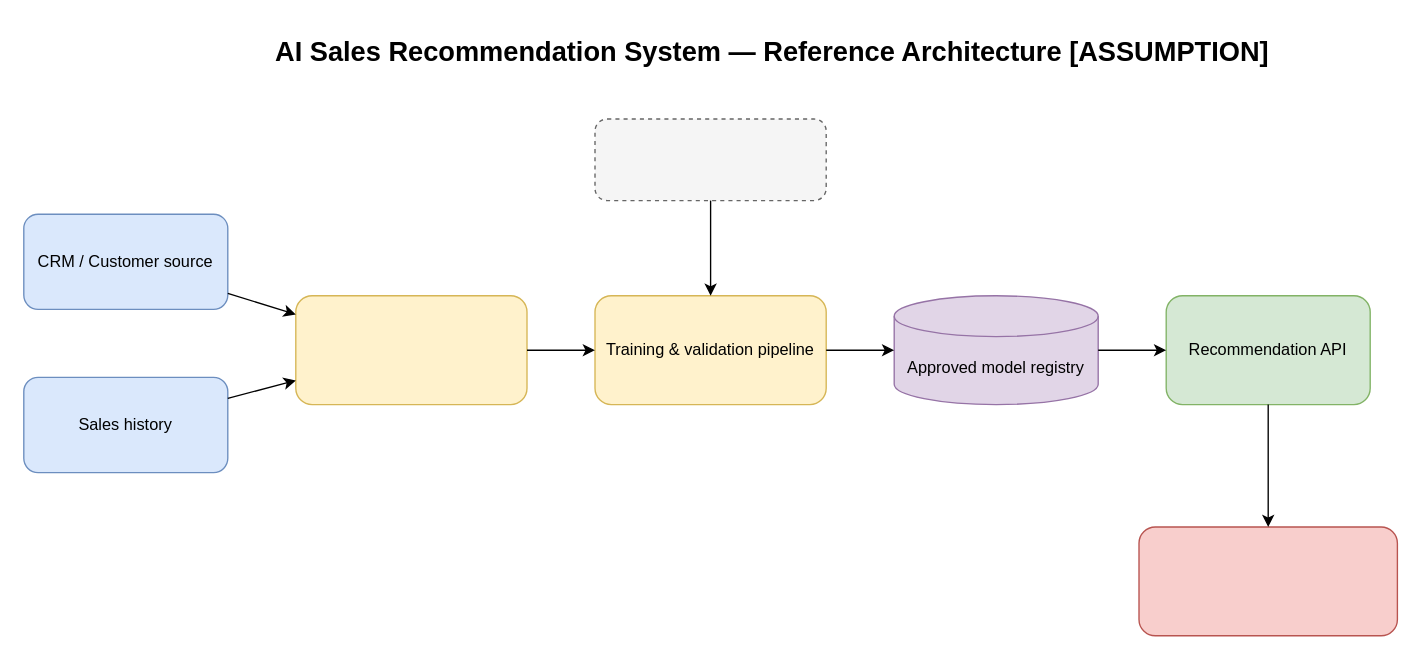
Image size: 1421x660. Some labels were removed from this diagram. The shapes that lost their labels are listed below. From the top down, each one's box as (x1, y1, x2, y2) in pixels, then its label:
(594, 118, 826, 201): Open-source dependencies
(294, 294, 527, 405): Data preparation & versioned dataset
(1138, 526, 1397, 636): Sales application → Salesperson (final decision)
